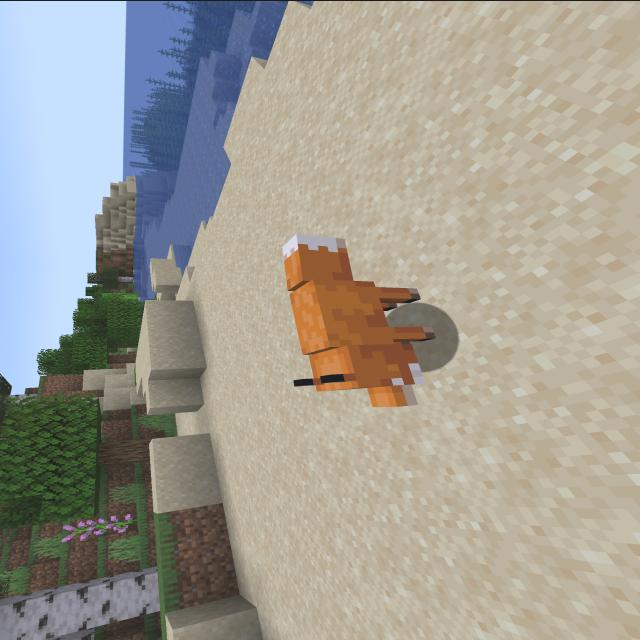Fox: (280, 231, 430, 418)
